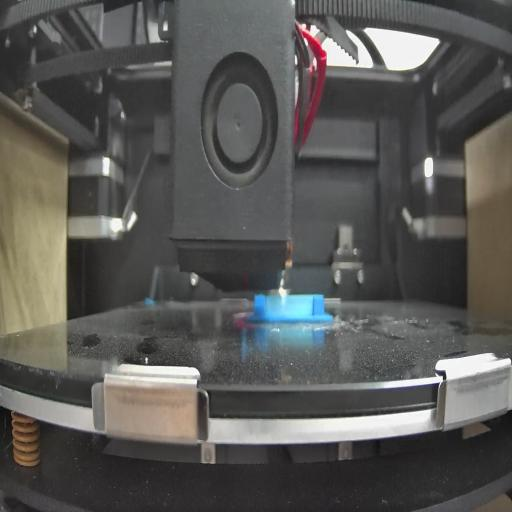stringing: (266, 293, 314, 317)
